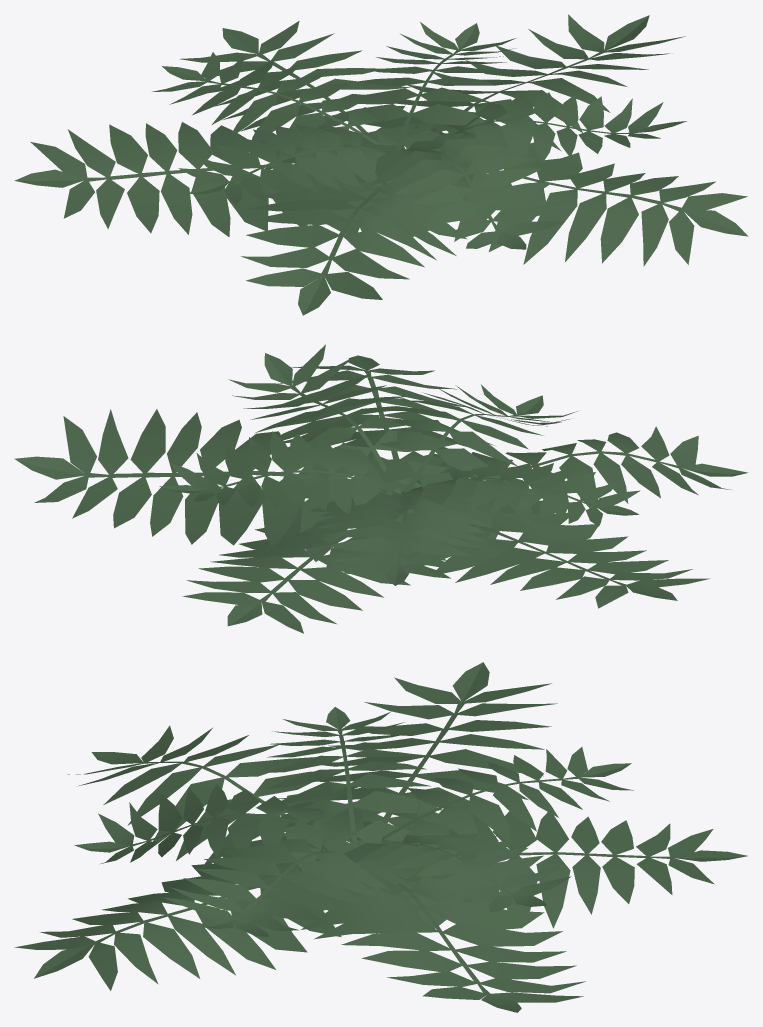
File: plante2_v3.fbx
The picture shows the model from 3 angles, top to bottom: view 1: azimuth 30°, elevation 25°; view 2: azimuth 150°, elevation 25°; view 3: azimuth 270°, elevation 25°; orthographic projection. The views are drawn at different scales.
Parts seen in each view (by area): view 1: Plane.023; view 2: Plane.023; view 3: Plane.023.
Boxes of the visible parts, <box> form: Plane.023: <box>14,14,748,315</box>; Plane.023: <box>14,344,748,633</box>; Plane.023: <box>14,662,747,1012</box>.
Size of the model in its own units: 3184 by 368 by 2858.
